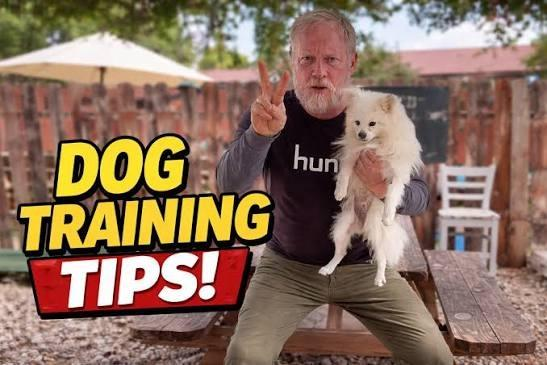adult_dog: (316, 88, 425, 288)
non-dog: (213, 8, 457, 365)
